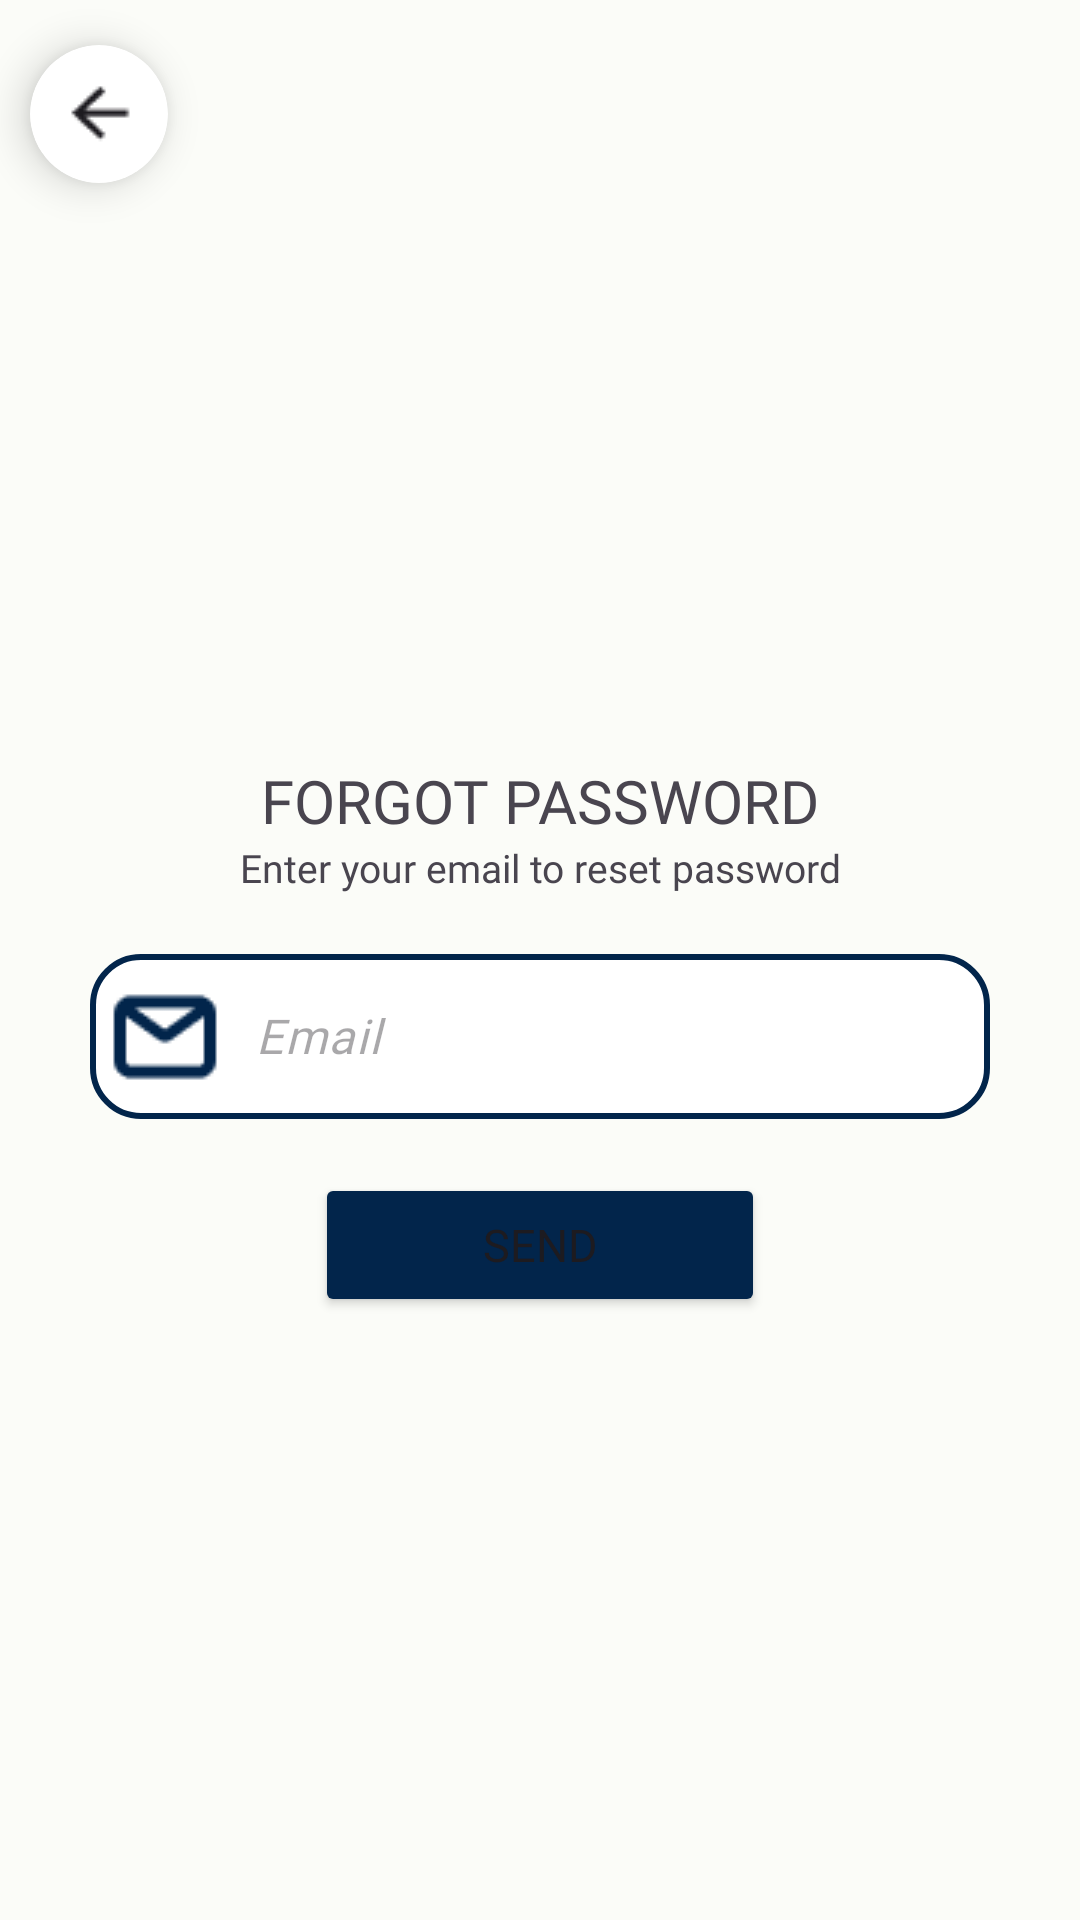

Icon click points for this 1080w x 1920h phone screenshot, format point (x, y):
back product screen: point (99, 114)
